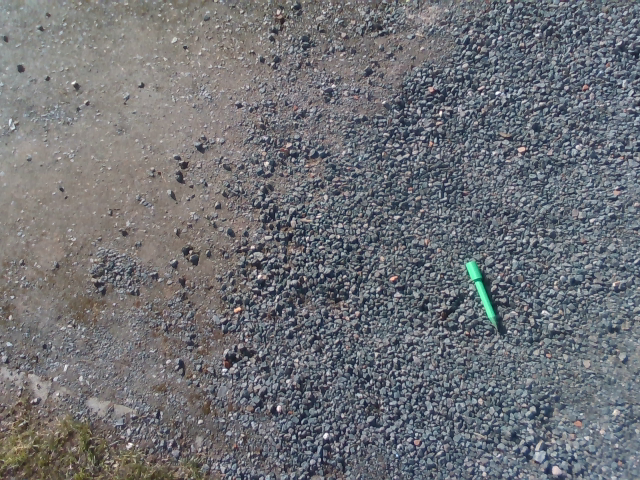Probe: (463, 257, 503, 335)
